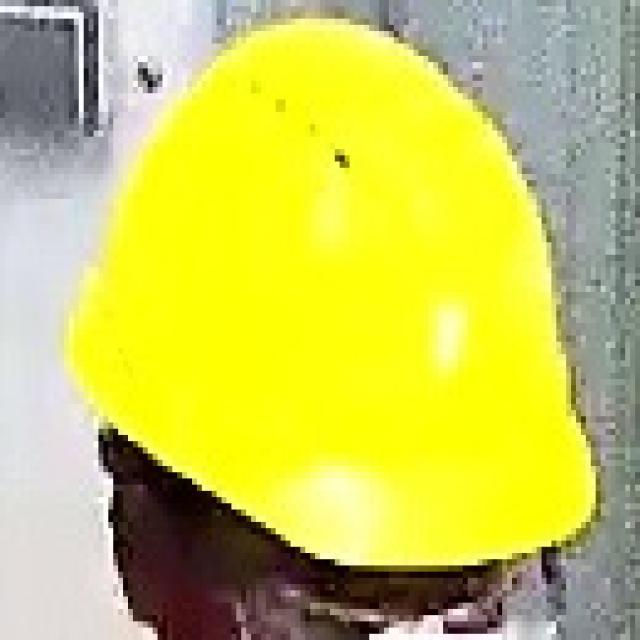yellow helmet: (59, 16, 614, 581)
